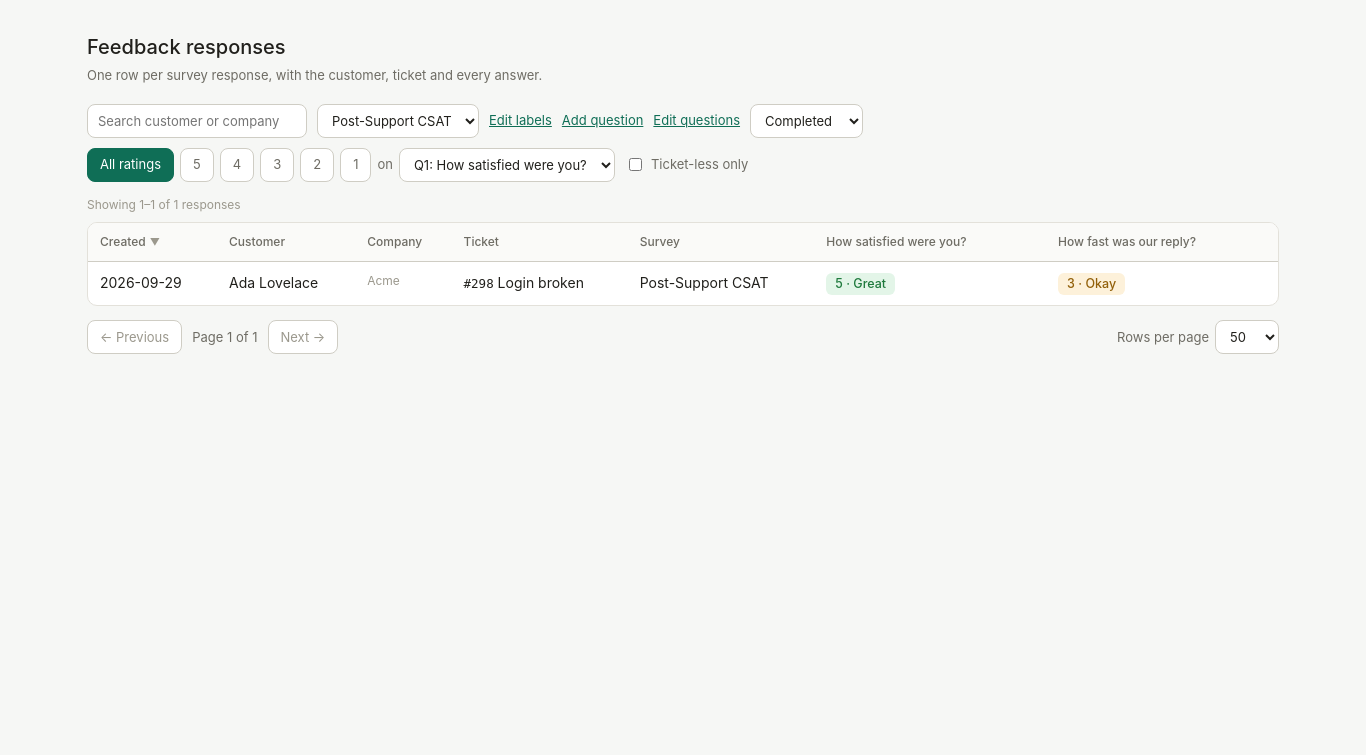
it: FeedbackTablePage › multi-select questions (Req 2) › can remove an option but keeps at least two
Click the button "Add question" at point(603, 121), box [562,111,643,130]
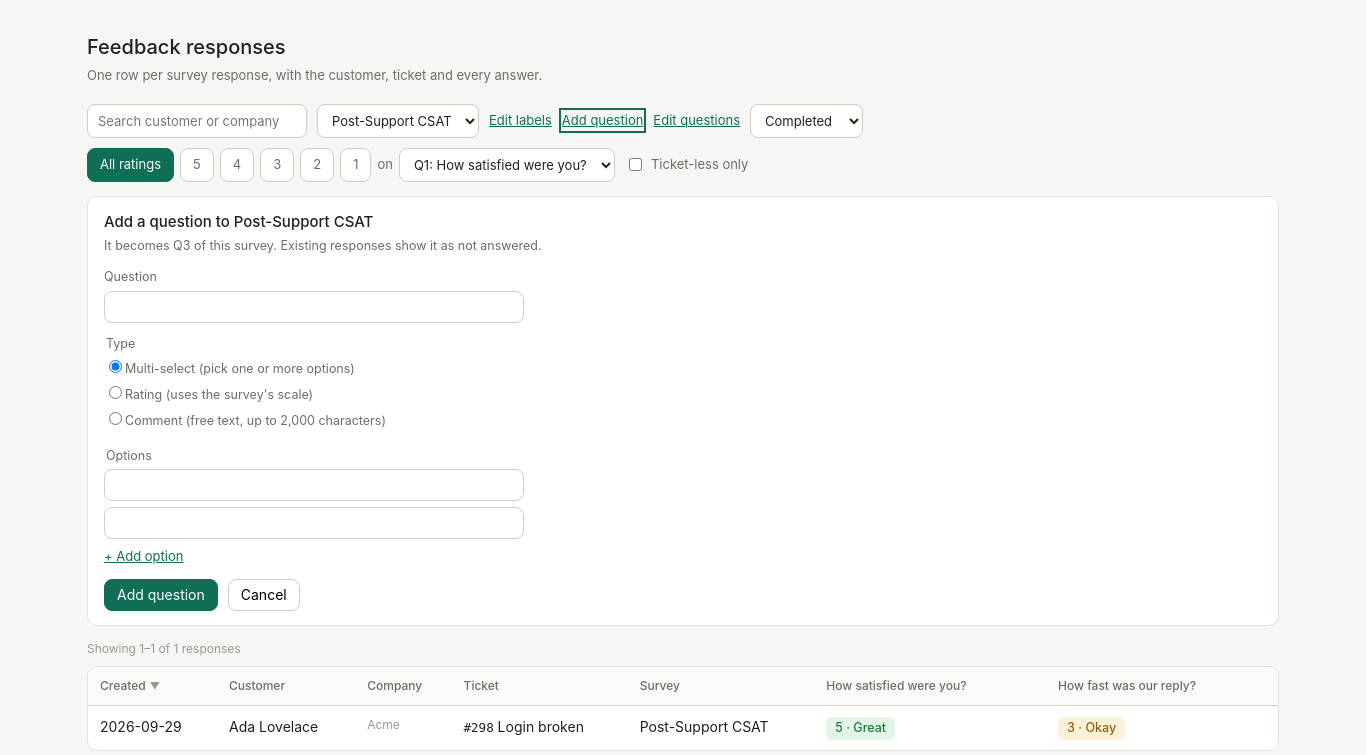
Click the button "+ Add option" at point(144, 557), box [104,547,183,567]
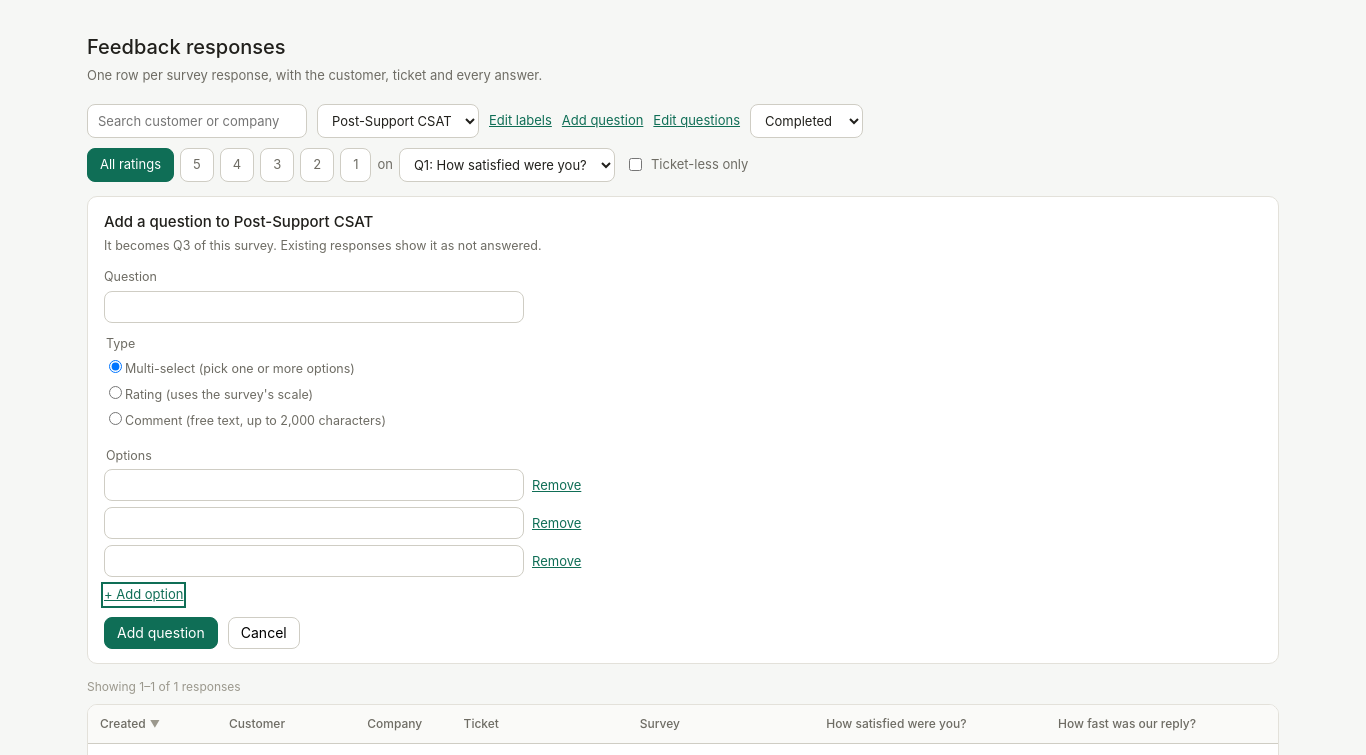
Click the button with aria-label "Remove option 1" at point(557, 485), box [532,476,581,495]
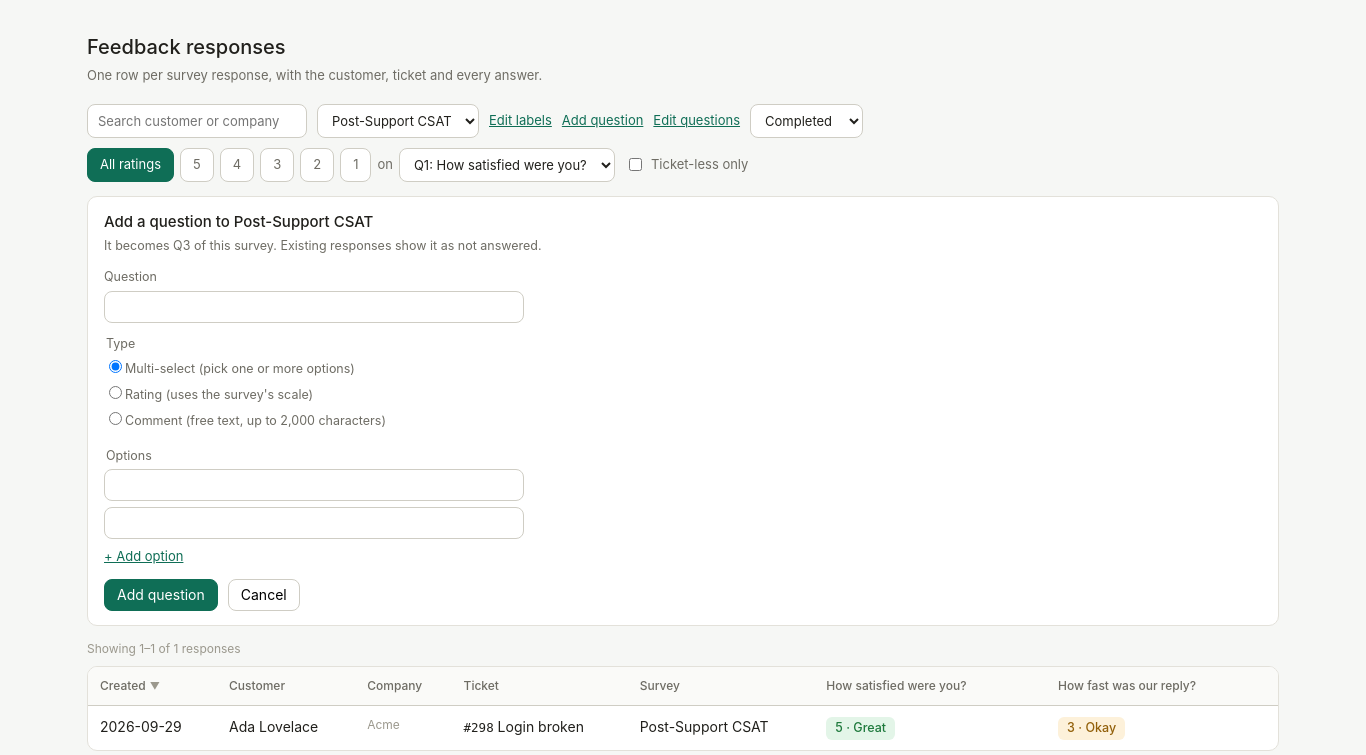
Expected: the number of fields named "Option 1" is 2, [104,469,524,501]; [104,507,524,539]
